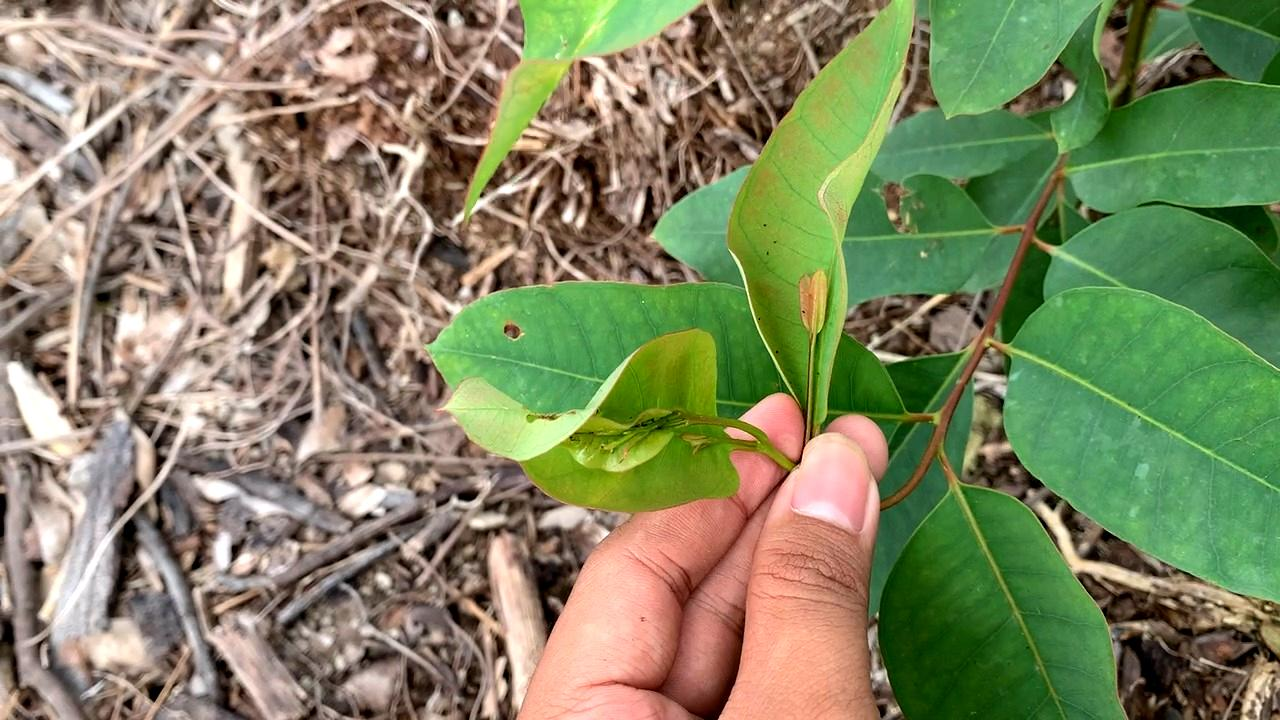Leaf Roller - Leaf: (439, 327, 742, 526)
